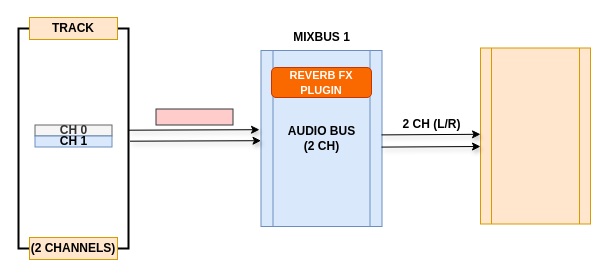
This 608x277 diagram has some shape labels left out. The centre of each missing label's shape, as x and y in pixels:
"AUX SEND 1" goes at [194,116].
"MASTER BUS" goes at [535,135].
